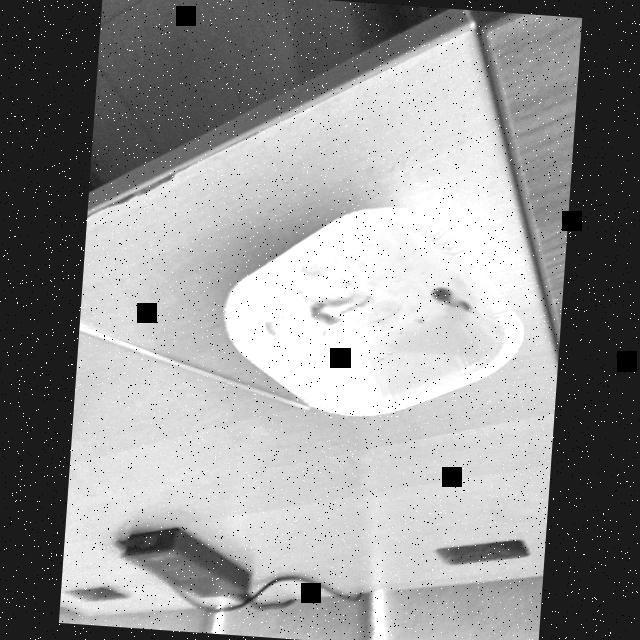cardboard_bowl: (213, 192, 532, 439)
stick: (74, 320, 320, 421)
